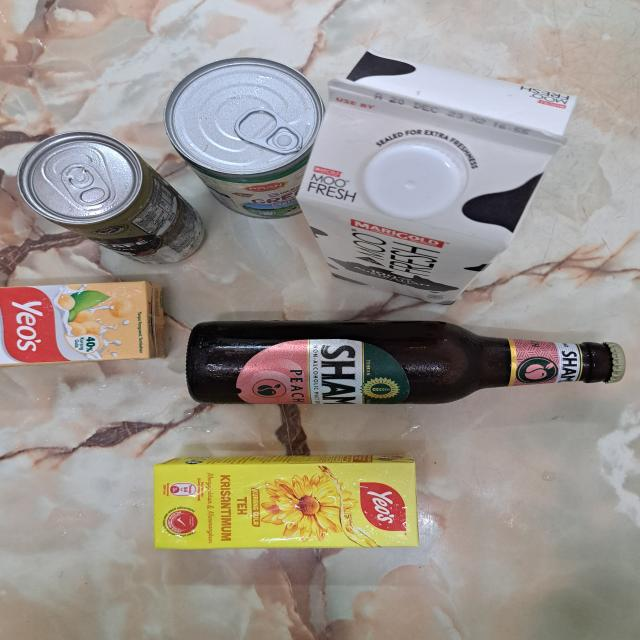can: (165, 55, 326, 218), (17, 131, 208, 268)
drink carton: (296, 50, 575, 306), (151, 453, 420, 550), (0, 279, 169, 364)
glass bottle: (188, 321, 626, 404)
plastic bottle cap: (360, 142, 469, 219)
pop tab: (235, 107, 303, 155), (60, 163, 112, 206)
